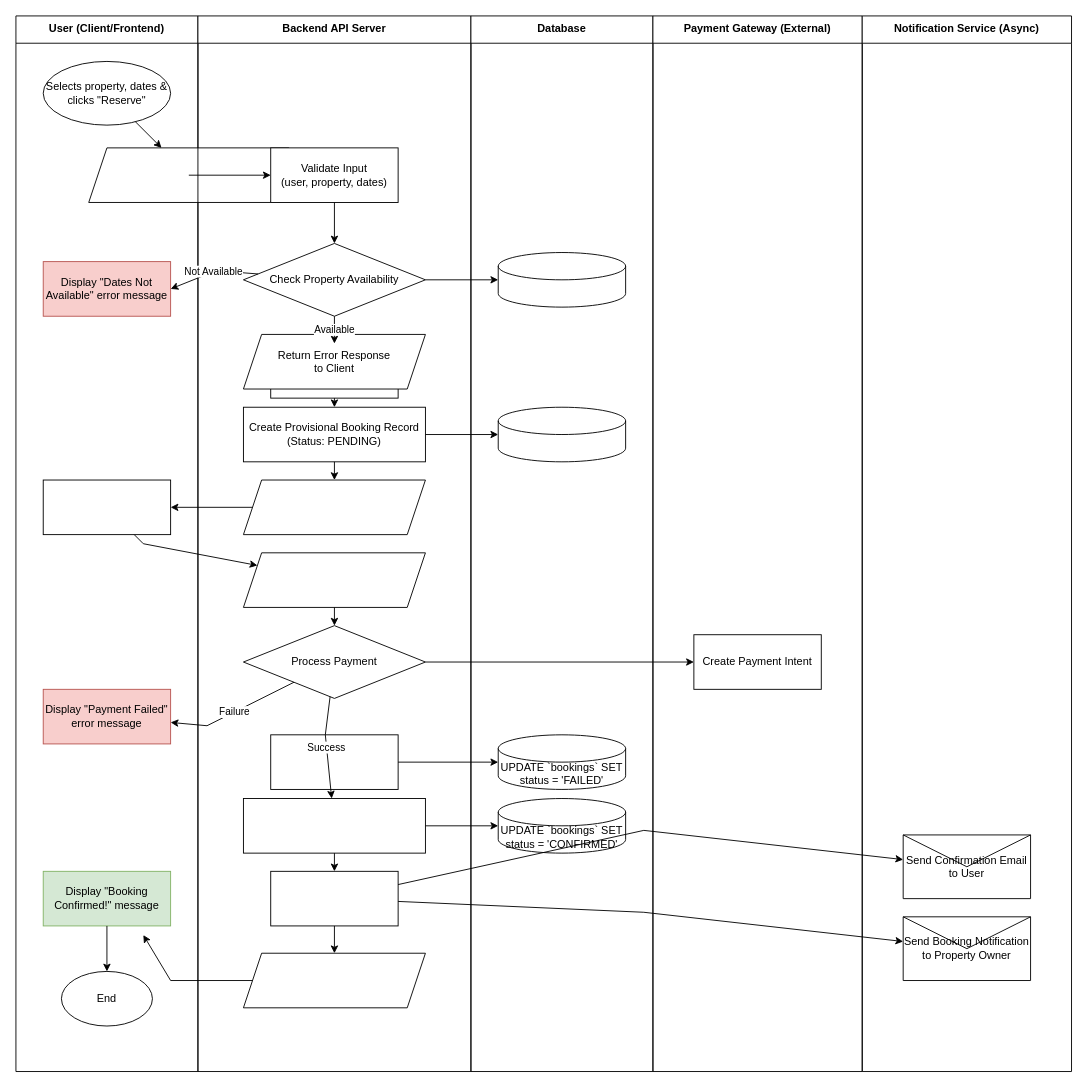
Image size: 1087x1087. Some labels were removed from this diagram. The centre of each missing label's shape, as x and y in pixels:
"[POST] /api/bookings" goes at (x=188, y=174).
"[POST] /api/bookings/{id}/pay" goes at (x=334, y=579).
"INSERT into `bookings` table" goes at (x=561, y=434).
"Query: Check for existing bookings in date range" goes at (x=561, y=279).
"Return price and provisional booking ID to client" goes at (x=334, y=507).
"Return Success Response to Client" goes at (x=334, y=980).
"Submits payment details and confirms" goes at (x=106, y=507).
"Trigger Notifications (Async)" goes at (x=334, y=898).
"Update Booking Status to CONFIRMED + store transaction ID" goes at (x=334, y=825).
"Update Booking Status to FAILED" goes at (x=334, y=761).
